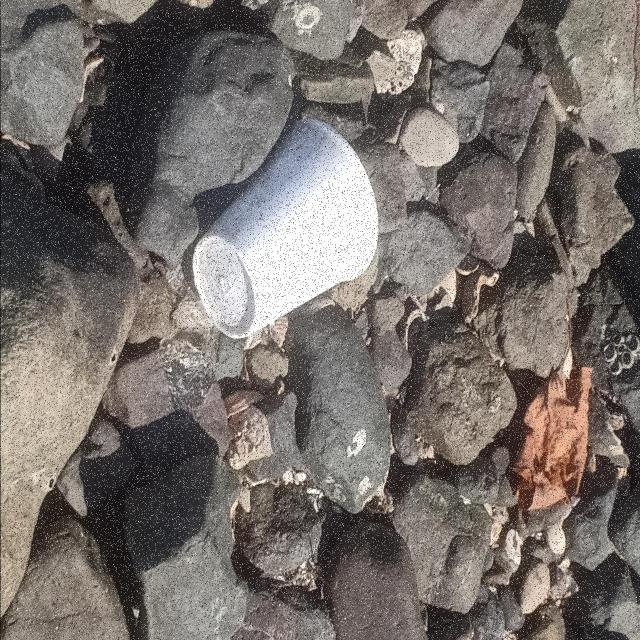styrofoam_waste: (194, 119, 379, 341)
